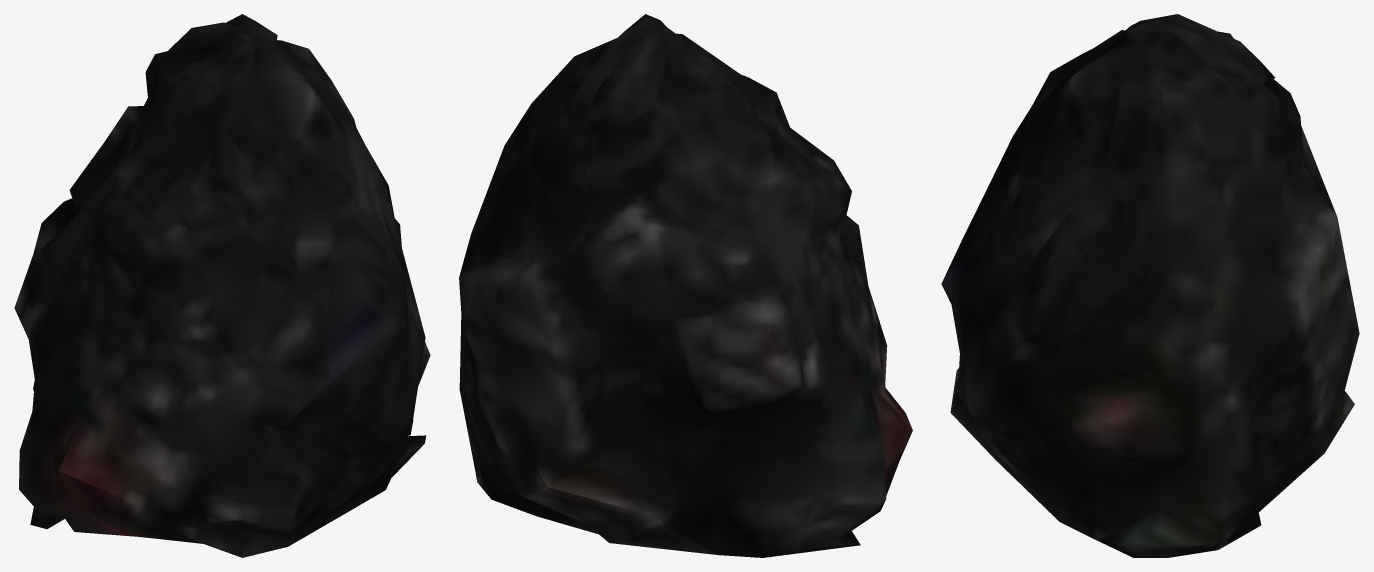
Rendered from trash_bag_lod1.glb.
3 views of the same model, side by side, from view 1: azimuth 30°, elevation 25°; view 2: azimuth 150°, elevation 25°; view 3: azimuth 270°, elevation 25° (orthographic). The views are drawn at different scales.
Visible parts, largest first — view 1: trash_bag.001; view 2: trash_bag.001; view 3: trash_bag.001.
Boxes of the visible parts, left/top/right/bottom form: trash_bag.001: left=14, top=14, right=430, bottom=557; trash_bag.001: left=459, top=14, right=912, bottom=557; trash_bag.001: left=941, top=14, right=1359, bottom=557.
Size of the model in its own units: 0.5248 by 0.5749 by 0.4664.
Materials: 1 (1 with a texture image).
